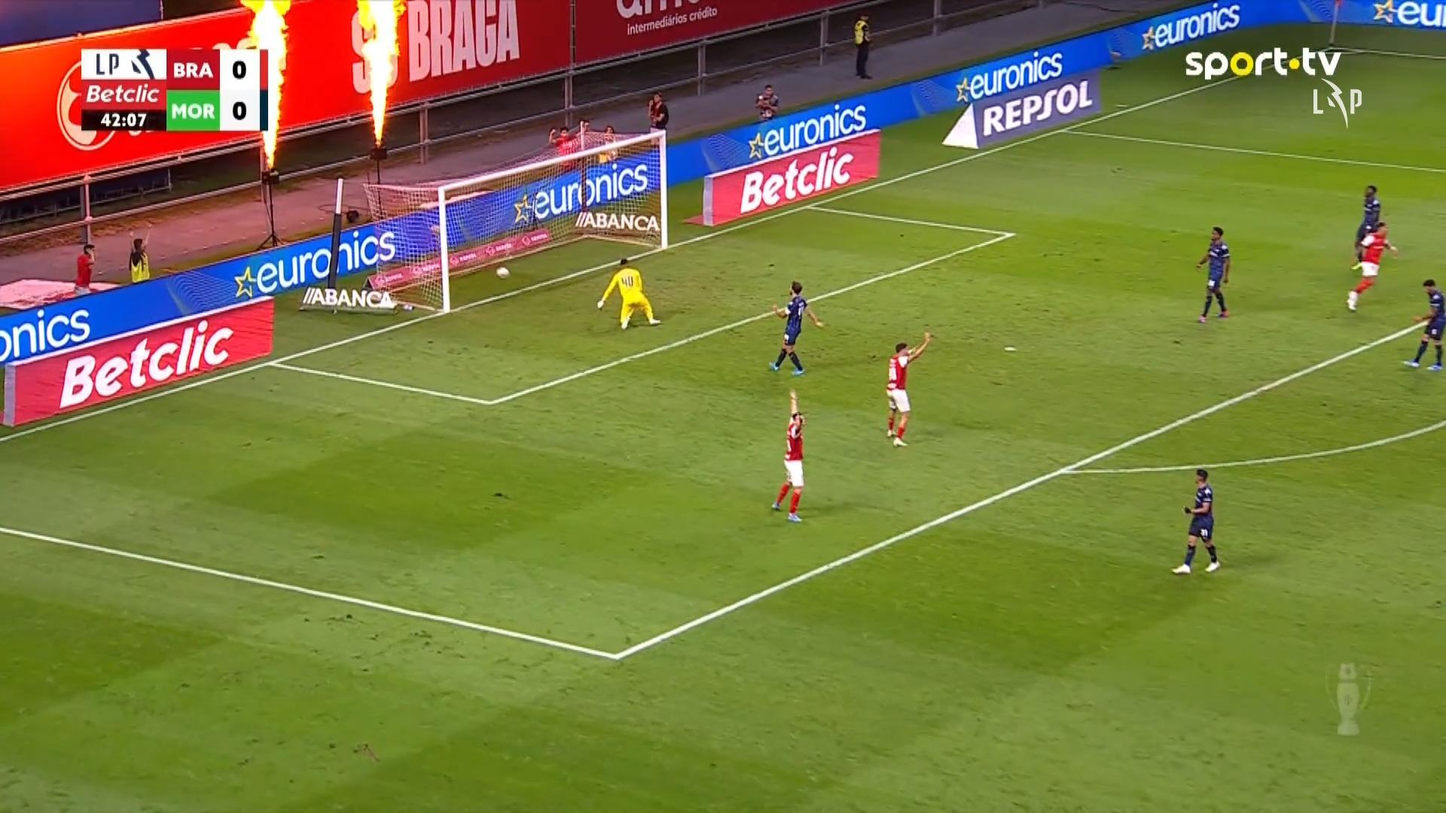ball: (496, 266, 508, 279)
goalkeeper: (596, 256, 662, 330)
player: (883, 330, 932, 447), (1170, 467, 1221, 574), (767, 279, 823, 376), (770, 389, 807, 522), (1345, 220, 1398, 312), (1402, 278, 1444, 370), (1194, 224, 1231, 323), (1350, 184, 1381, 269)
